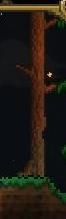tree: (0, 1, 66, 219)
